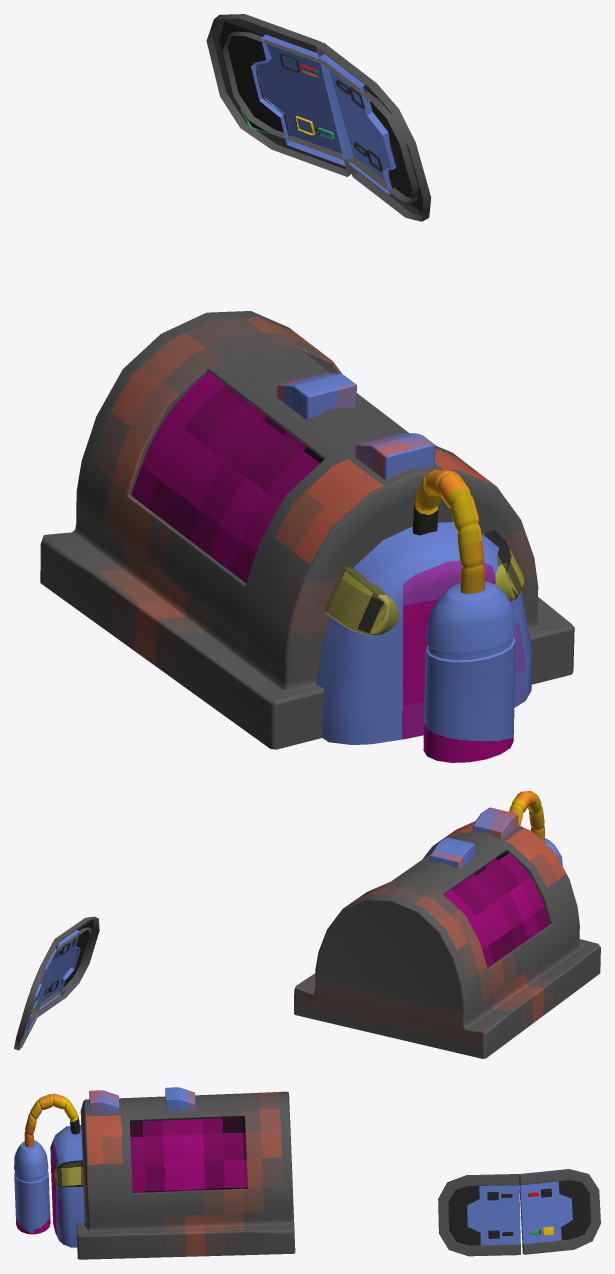
File: mars_resupgrade.glb
The picture shows the model from 3 angles, top to bottom: view 1: azimuth 30°, elevation 25°; view 2: azimuth 150°, elevation 25°; view 3: azimuth 270°, elevation 25°; orthographic projection. The views are drawn at different scales.
Parts seen in each view (by area): view 1: Tile_track2; view 2: Tile_track2; view 3: Tile_track2.
Part boxes in pixels (bbox=[...]): Tile_track2: bbox=[40, 14, 574, 762]; Tile_track2: bbox=[14, 791, 600, 1058]; Tile_track2: bbox=[14, 1087, 600, 1259].
Size of the model in its own units: 7.03 by 3.24 by 12.96.
Materials: 3 (3 with a texture image).
